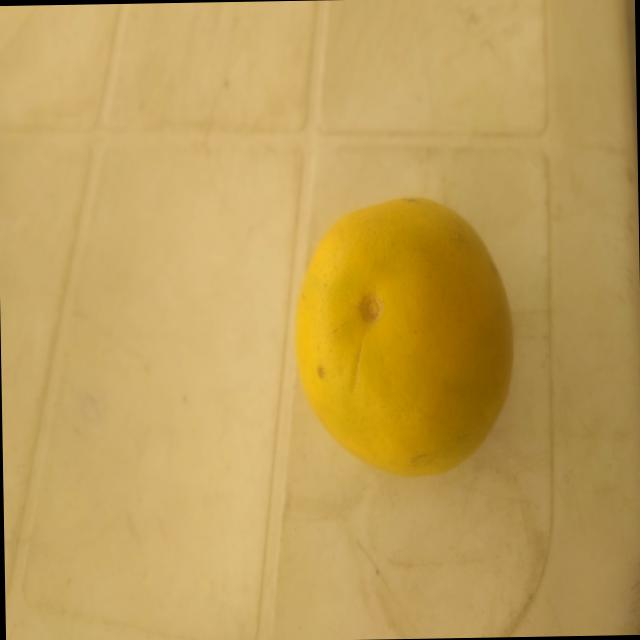Ripe orange: (272, 182, 522, 495)
